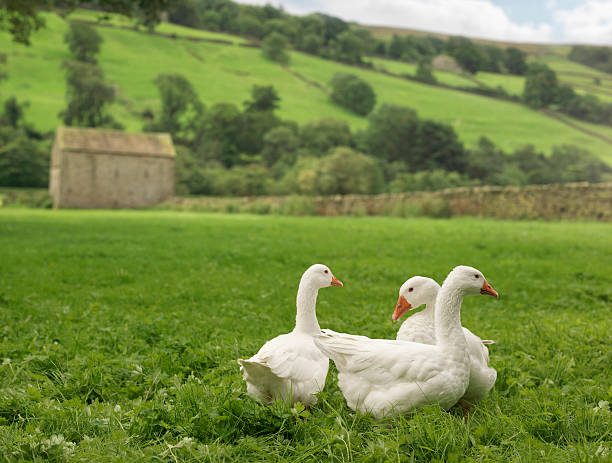goose: (320, 261, 506, 412), (231, 259, 347, 407), (395, 274, 499, 405)
